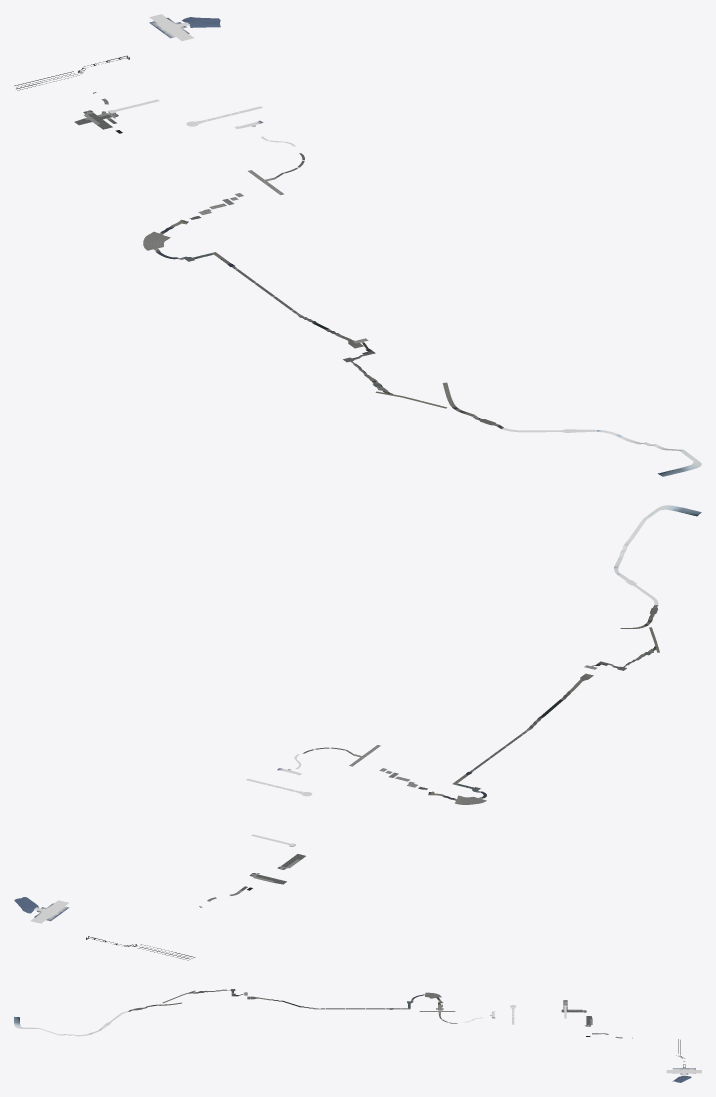
Rendered from Floor1.glb.
3 views of the same model, one above another, from view 1: azimuth 30°, elevation 25°; view 2: azimuth 150°, elevation 25°; view 3: azimuth 270°, elevation 25° (orthographic). The views are drawn at different scales.
Parts seen in each view (by area): view 1: no part large enough to name; view 2: no part large enough to name; view 3: stg102_os01_Mesh_0012.
Boxes of the visible parts, <box> form: stg102_os01_Mesh_0012: <box>14,1016,101,1036</box>.
Size of the model in its own units: 512 by 122 by 1832.
Materials: 20 (20 with a texture image).
